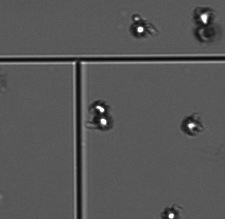Dead Cell: (194, 25, 219, 43)
Living Cell: (182, 114, 204, 135), (193, 6, 216, 26), (131, 13, 149, 38), (92, 114, 112, 130), (91, 99, 109, 115), (161, 205, 181, 217)
